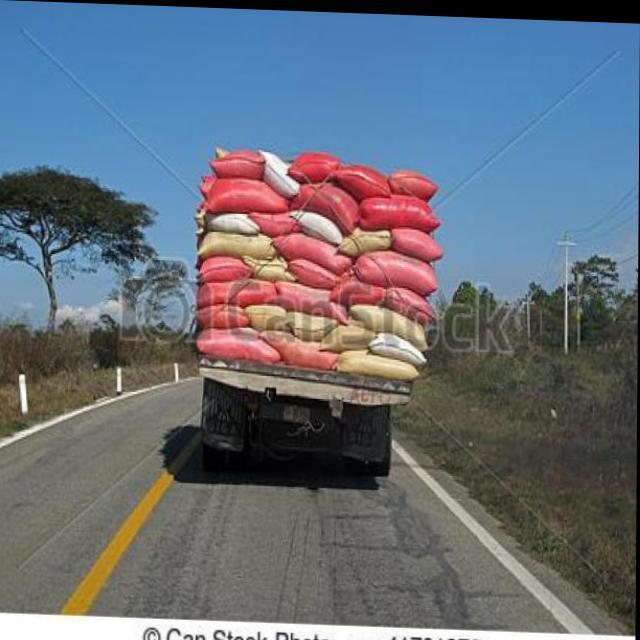uncovered: (186, 109, 450, 452)
